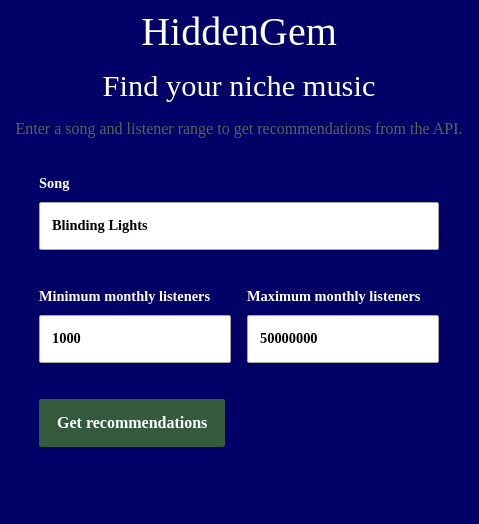
Test: App › shows an error message when the recommendations request fails
Click the button "Get recommendations": (132, 423) 39,399 -> 225,447
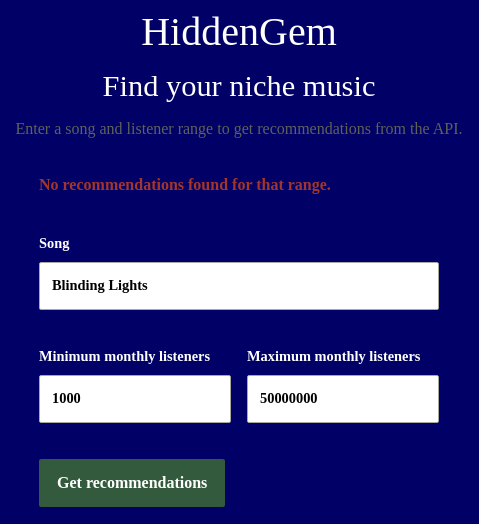
Result: the text "No recommendations found for that range." is shown at 39,176 -> 331,192
